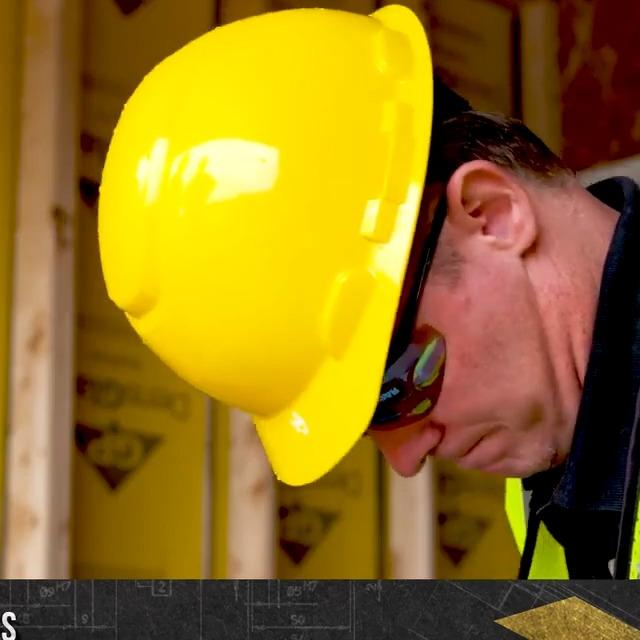Hardhat: (95, 1, 435, 487)
NO-Mask: (417, 278, 573, 479)
Person: (101, 4, 640, 574)
Safety Vest: (502, 206, 640, 576)
